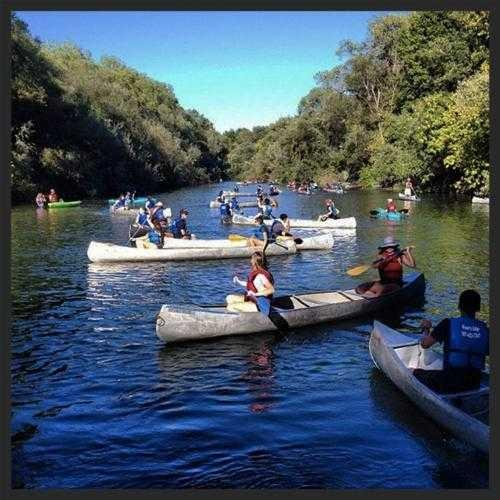kayak: (156, 268, 425, 346), (368, 319, 497, 455), (87, 231, 332, 262), (287, 215, 358, 230), (369, 208, 410, 224), (381, 200, 400, 219), (47, 200, 81, 209), (398, 190, 421, 202)
